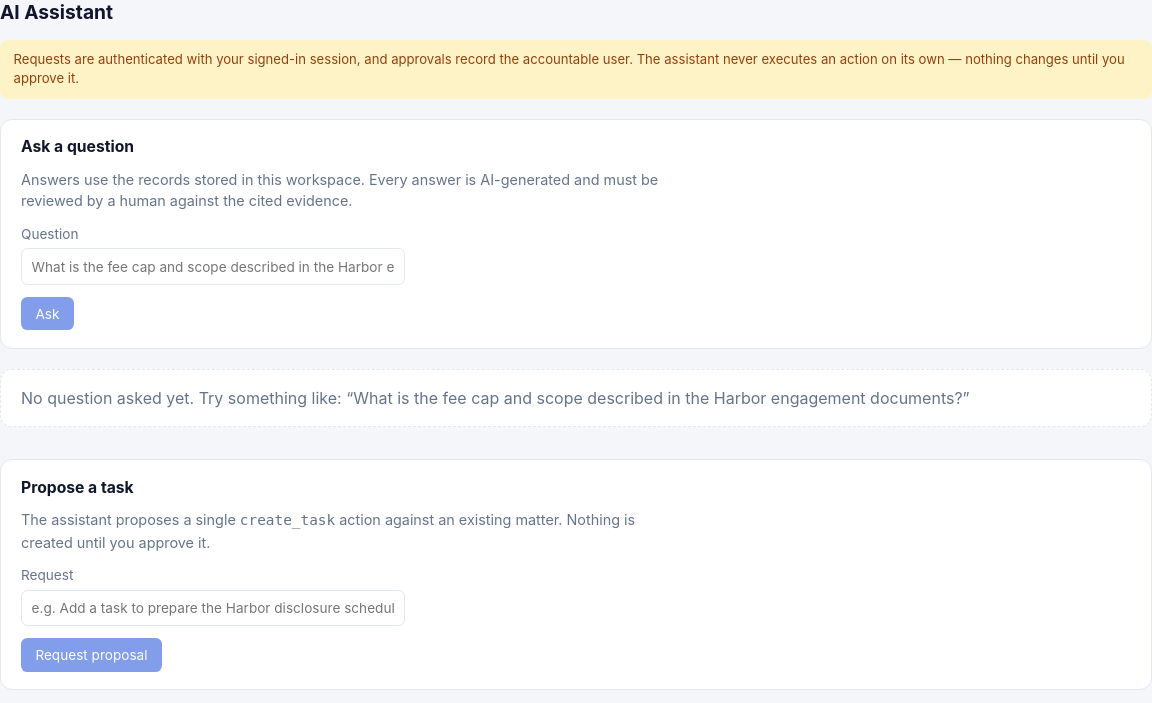
Scenario: AssistantPage › submits a question and renders the answer with evidence
Step 1. Replace the text in the field labelled "Question" with "What is the fee cap?" → (213, 267), box [21,248,405,285]
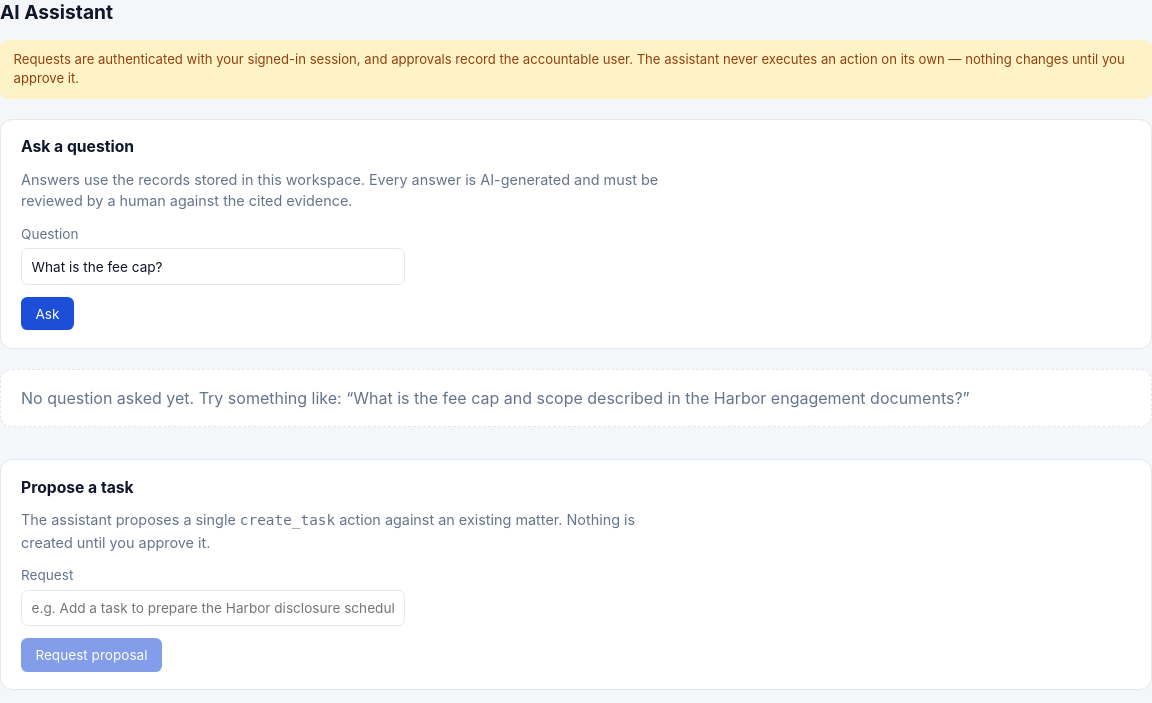
Step 2. Click the button "Ask" → (47, 314), box [21,297,74,330]
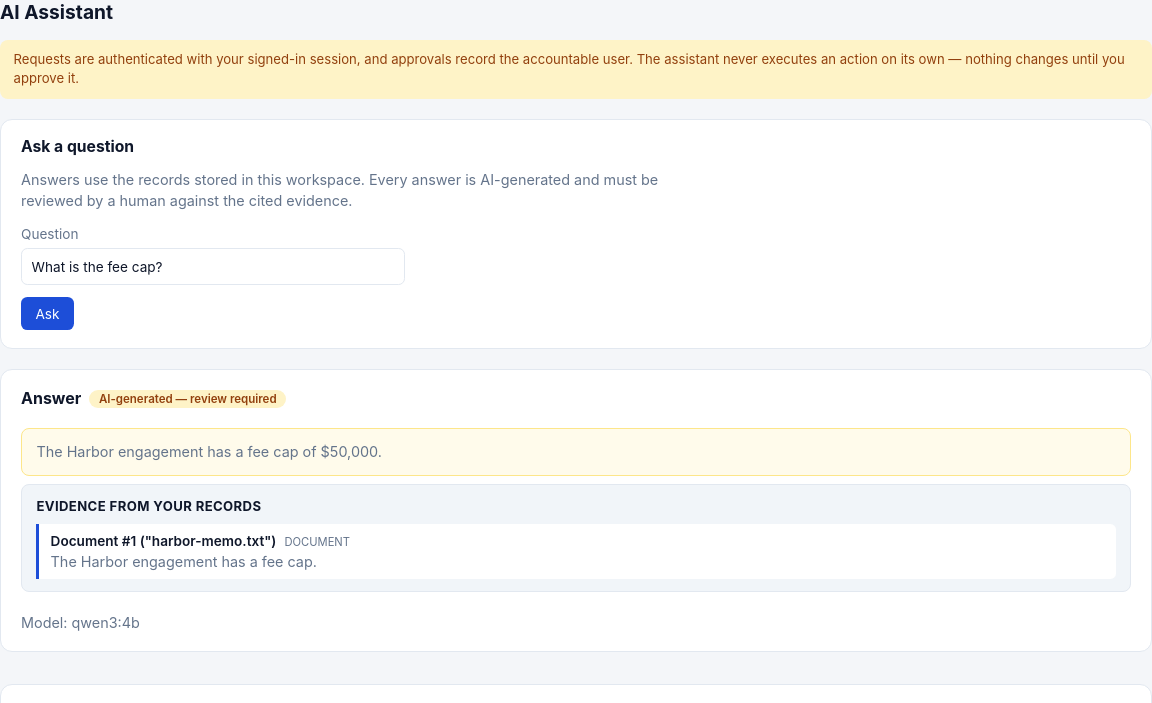
Now the text "The Harbor engagement has a fee cap of $50,000." is shown, box [21,428,1131,476]
Now the text "Document #1 (\"harbor-memo.txt\")" is shown, box [51,533,276,549]
Now the text "The Harbor engagement has a fee cap." is shown, box [51,553,317,570]
